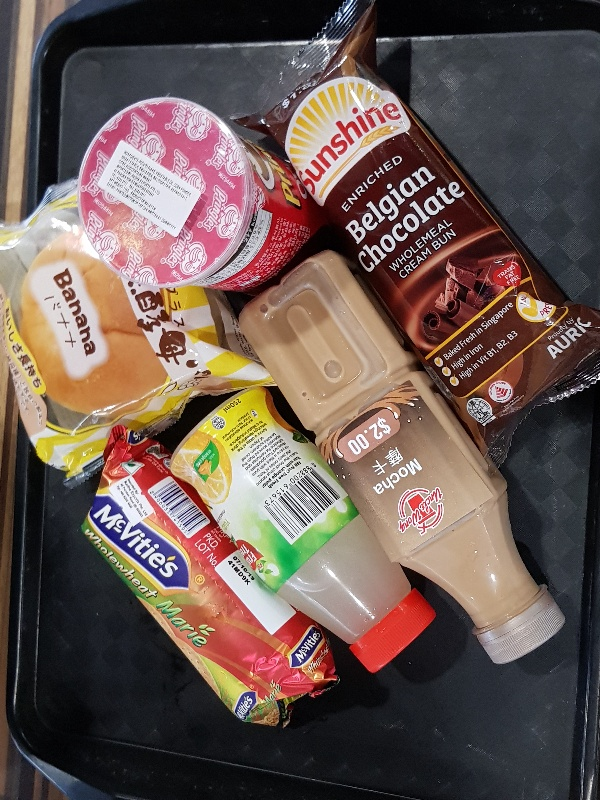Dayplus Banana: (1, 175, 281, 484)
Fruit Tree Yuzu Mixed Juice Drink: (163, 384, 437, 675)
McVitie's Wholewheat Marie: (77, 419, 346, 730)
Mocha: (234, 248, 567, 669)
Pringles Original: (76, 94, 327, 294)
Sunshine Belgium Chocolate Wholemeal Cream Bun: (230, 1, 600, 470)
